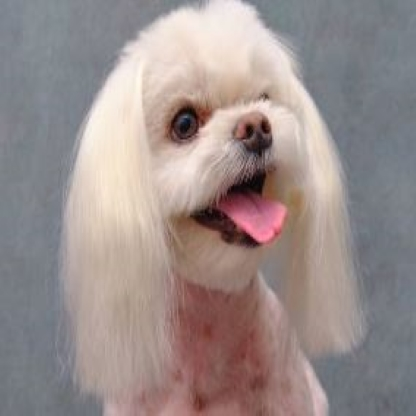maltese: (56, 2, 364, 416)
